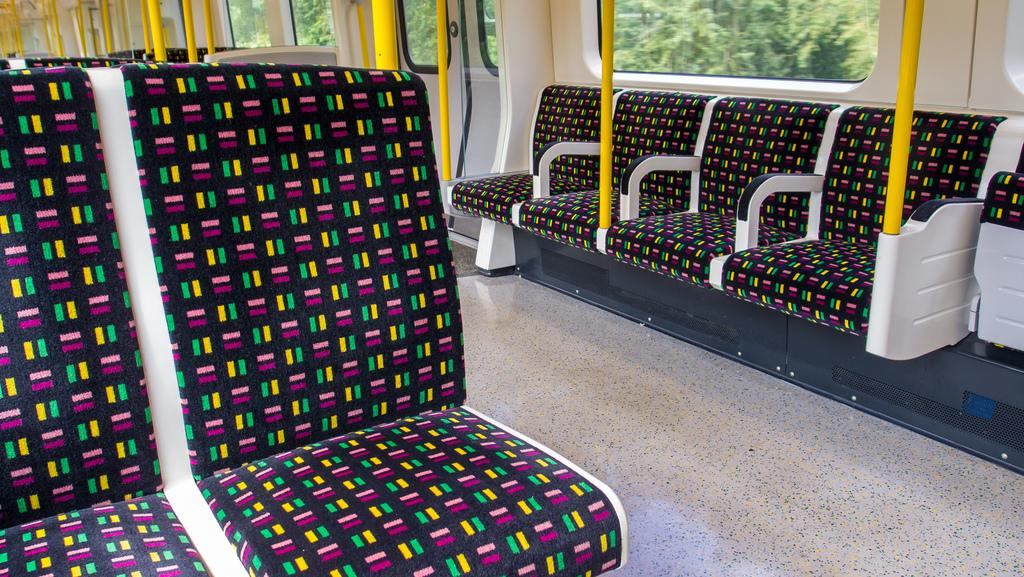Chair: (710, 102, 1011, 360), (598, 93, 840, 282), (509, 81, 721, 255), (439, 78, 618, 242)
